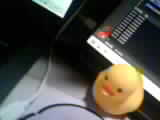duck: (84, 58, 145, 114)
